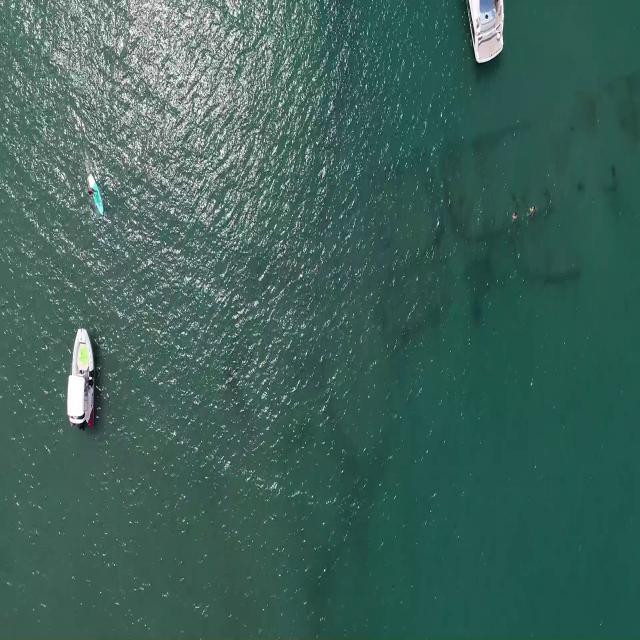boat: (65, 316, 97, 437)
person: (526, 204, 541, 219), (87, 186, 98, 200), (512, 210, 520, 220)
surfboard: (87, 170, 103, 220)
